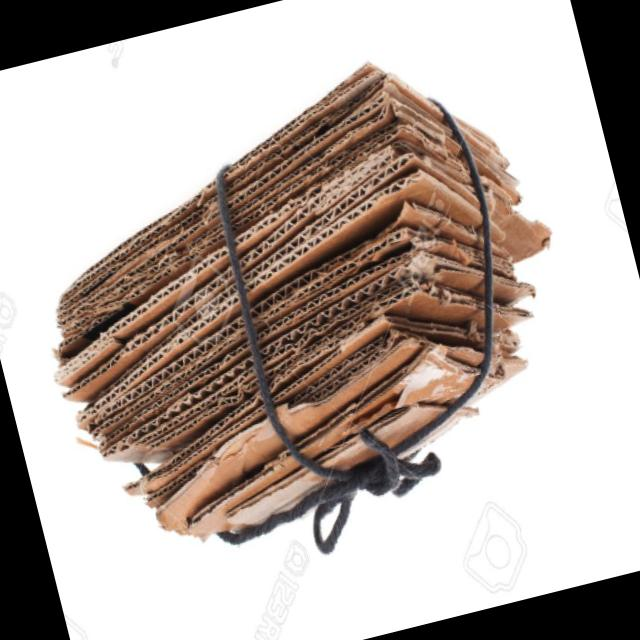Kardus: (0, 29, 612, 606)
